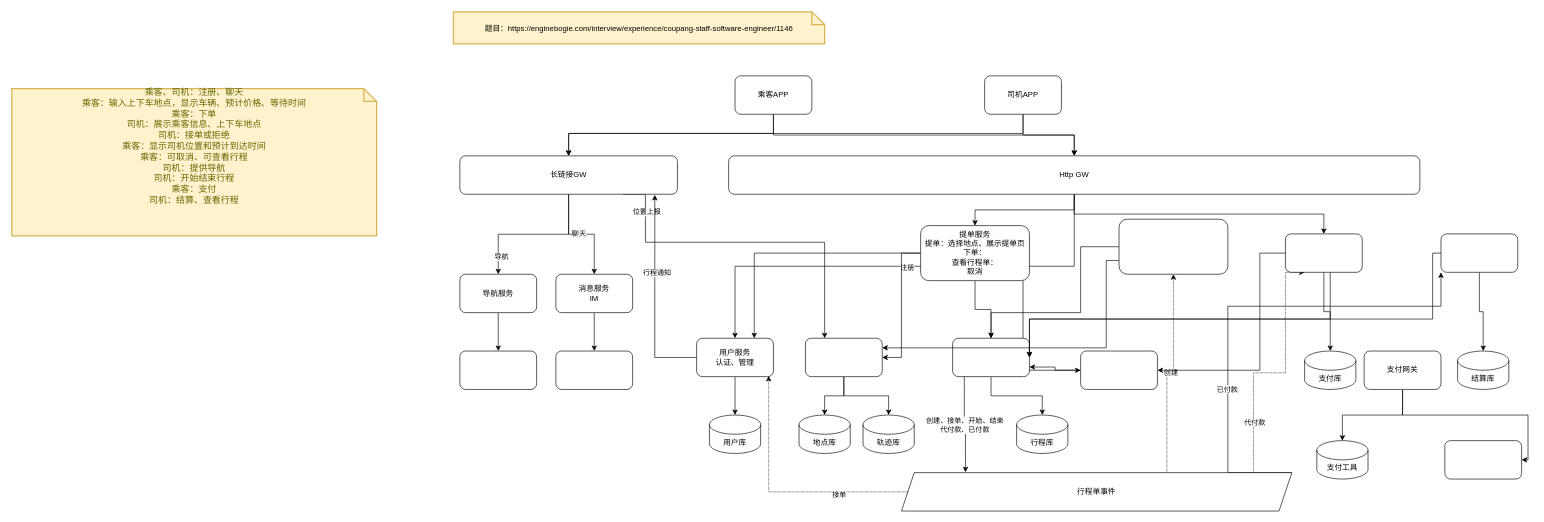
This 1544x522 diagram has some shape labels left out. The shapes that lost their labels are listed below. From the top down, each one's centre as x and y in pixels, then its label:
the point at 1173,246: 接单服务 更新接单列表 接单、拒绝 开始、结束行程
the point at 1323,252: 支付服务
the point at 1479,252: 结算
the point at 498,369: 外部导航
the point at 594,369: 外部IM
the point at 843,357: 位置服务 POI搜索 用户位置上报
the point at 990,357: 行程单服务
the point at 1118,369: 算价服务 预估价格、实际价格
the point at 1483,459: 外部渠道
